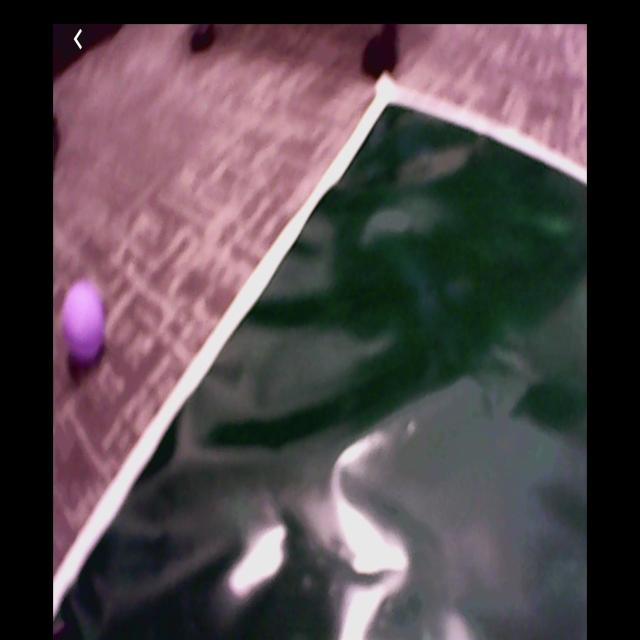ball: (66, 284, 107, 366)
